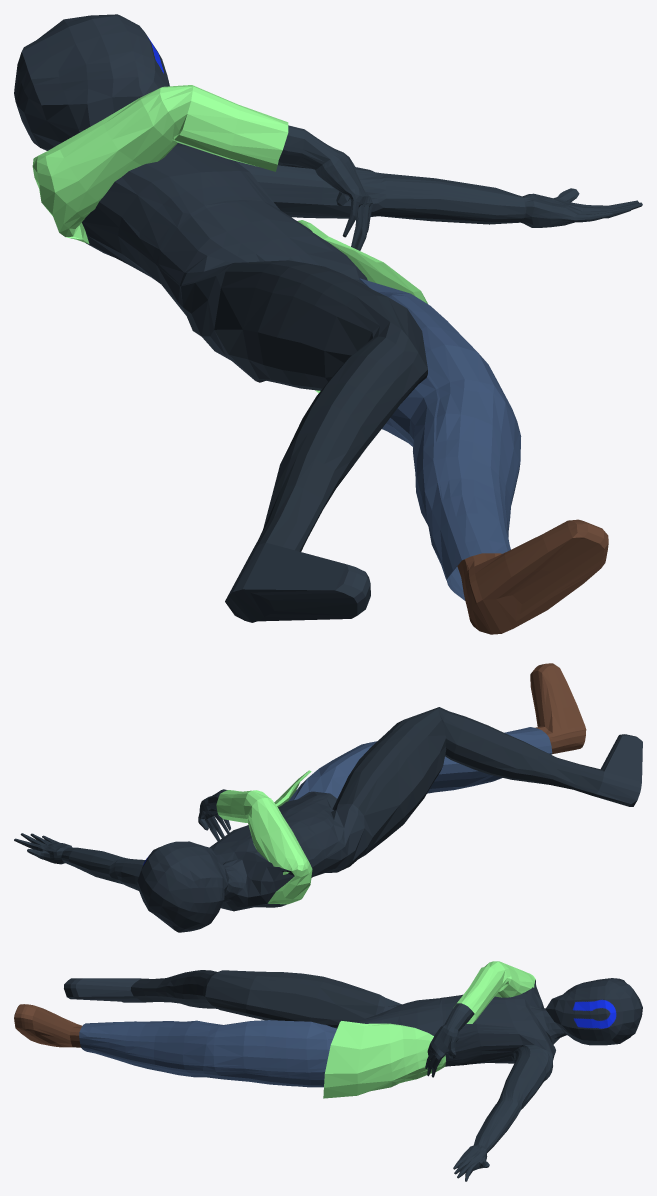
Rendered from Mar_Die_000016.obj.
3 views of the same model, one above another, from view 1: azimuth 30°, elevation 25°; view 2: azimuth 150°, elevation 25°; view 3: azimuth 270°, elevation 25° (orthographic). The views are drawn at different scales.
Parts seen in each view (by area): view 1: Cube.000_Cube.001; view 2: Cube.000_Cube.001; view 3: Cube.000_Cube.001.
Boxes of the visible parts, left/top/right/bottom form: Cube.000_Cube.001: left=14, top=14, right=642, bottom=634; Cube.000_Cube.001: left=14, top=663, right=642, bottom=932; Cube.000_Cube.001: left=14, top=961, right=642, bottom=1181.
Size of the model in its own units: 2.77 by 0.8059 by 3.94.
